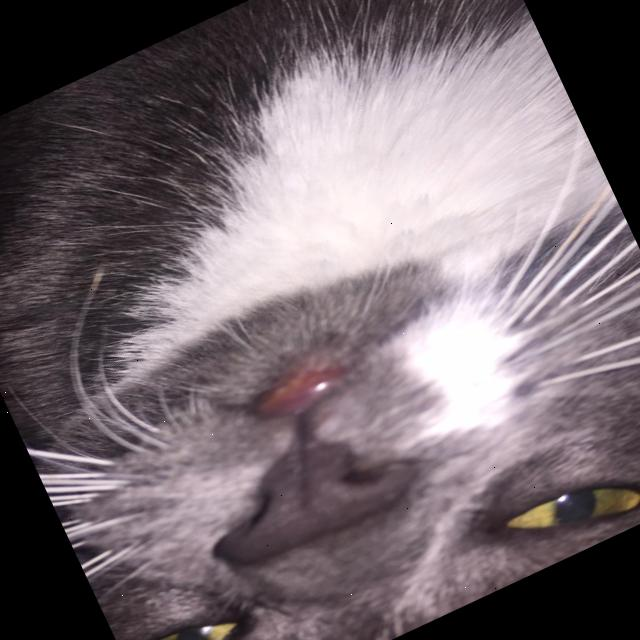cat-lump-and-bump: (234, 352, 362, 441)
